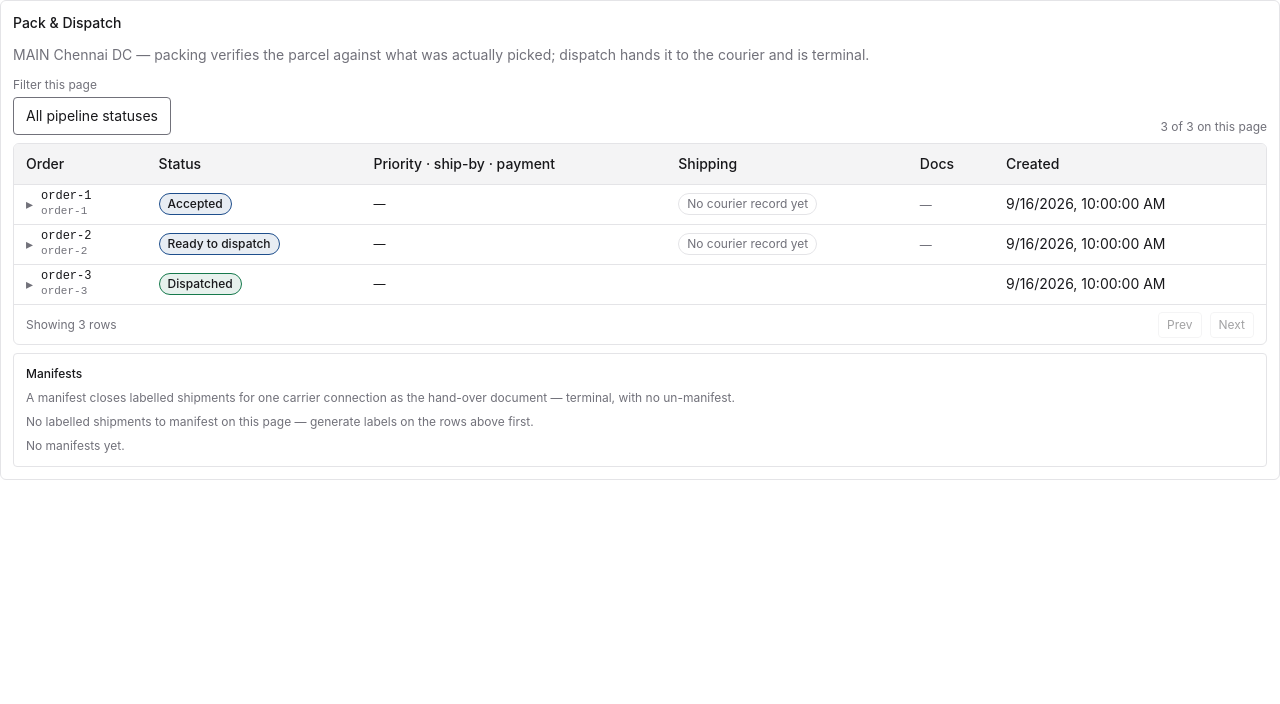
Test: the pack bench › an already-packed 409 is refused verbatim
What coordinates should you click on to do the following:
click the button "▸ order-1 order-1"
I would click on:
 (59, 204)
Its box is left=26, top=188, right=92, bottom=220.
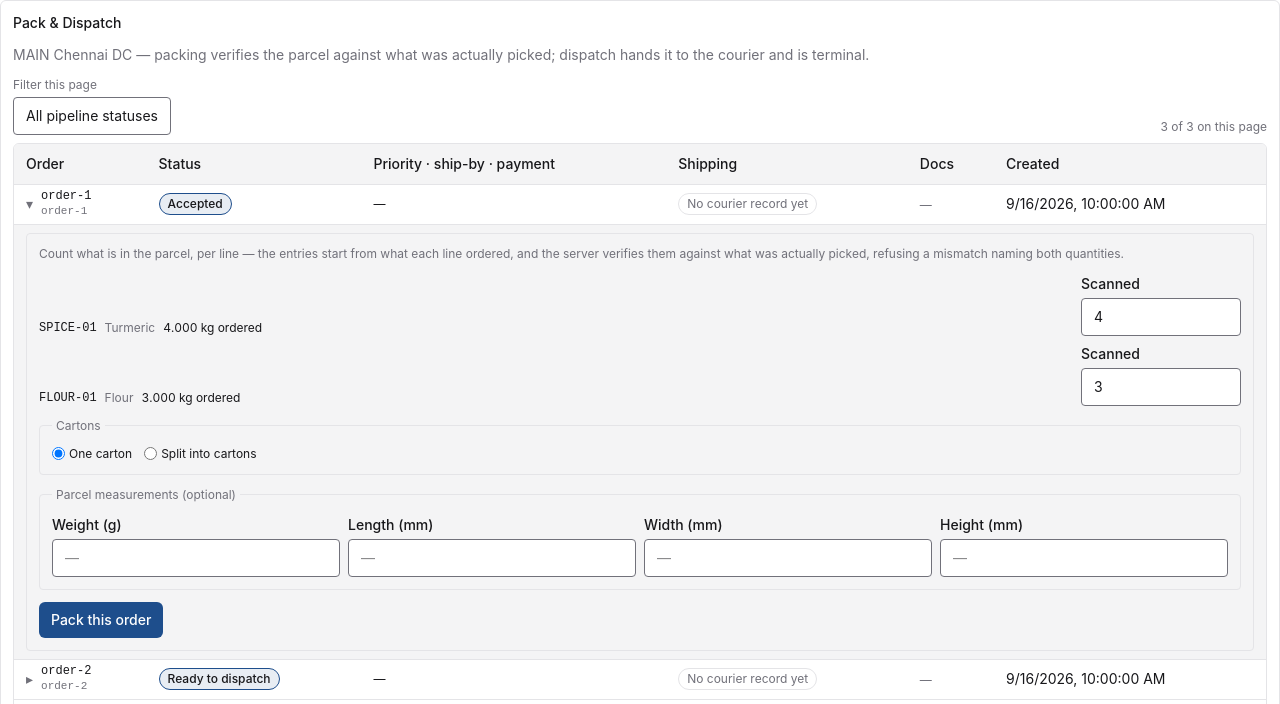
What coordinates should you click on to do the following:
click the button "Pack this order"
I would click on:
 (101, 620)
Its box is left=39, top=602, right=163, bottom=638.
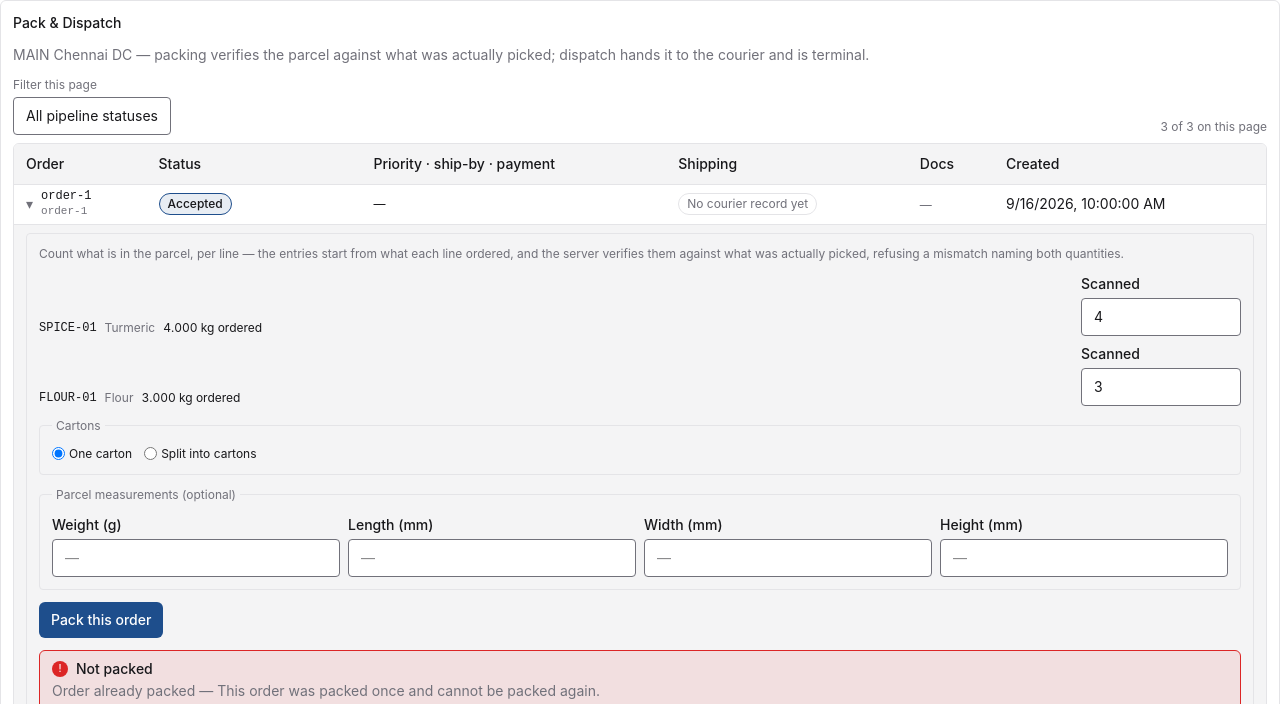
Expected: the text "Order already packed — This order was packed once and cannot be packed again." is shown, left=52, top=682, right=600, bottom=698
